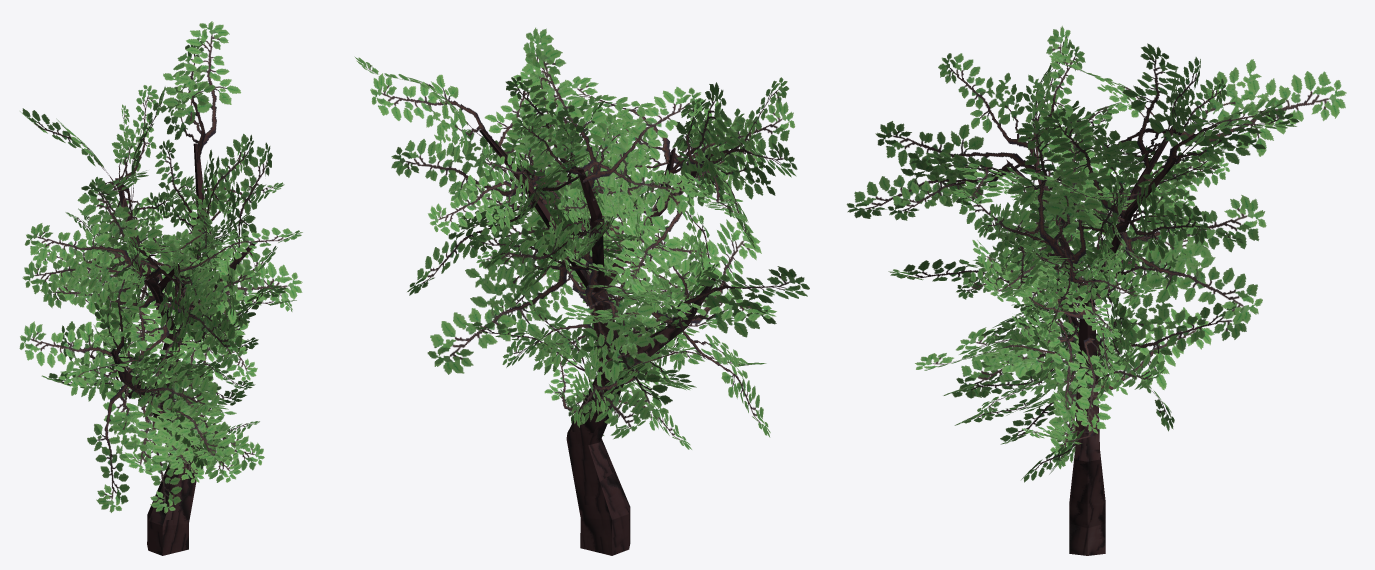
File: HP_Tree1.glb
3 views of the same model, side by side, from view 1: azimuth 30°, elevation 25°; view 2: azimuth 150°, elevation 25°; view 3: azimuth 270°, elevation 25° (orthographic). The views are drawn at different scales.
Visible parts, largest first — view 1: Cube, HP_tree_branch.091, HP_tree_branch.069, HP_tree_branch.076, HP_tree_branch.081, HP_tree_branch.088, HP_tree_branch.086, HP_tree_branch.075, HP_tree_branch.045, HP_tree_branch.042, HP_tree_branch.071, HP_tree_branch.032 (+55 smaller); view 2: Cube, HP_tree_branch.056, HP_tree_branch.047, HP_tree_branch.098, HP_tree_branch.096, HP_tree_branch.093, HP_tree_branch.069, HP_tree_branch.064, HP_tree_branch.041, HP_tree_branch.097, HP_tree_branch.086, HP_tree_branch.068 (+49 smaller); view 3: Cube, HP_tree_branch.057, HP_tree_branch.100, HP_tree_branch.032, HP_tree_branch.068, HP_tree_branch.098, HP_tree_branch.055, HP_tree_branch.059, HP_tree_branch.083, HP_tree_branch.039, HP_tree_branch.088, HP_tree_branch.093 (+46 smaller).
Part boxes in pixels (box(x1,y1,x2,y2)): Cube: box(111, 143, 255, 555); HP_tree_branch.091: box(162, 21, 241, 146); HP_tree_branch.069: box(19, 321, 117, 401); HP_tree_branch.076: box(87, 383, 151, 512); HP_tree_branch.081: box(24, 223, 132, 289); HP_tree_branch.088: box(174, 270, 243, 369); HP_tree_branch.086: box(77, 180, 161, 283); HP_tree_branch.075: box(132, 351, 219, 417); HP_tree_branch.045: box(154, 250, 302, 322); HP_tree_branch.042: box(22, 243, 142, 307); HP_tree_branch.071: box(157, 399, 236, 461); HP_tree_branch.032: box(226, 142, 272, 270); Cube: box(479, 129, 715, 555); HP_tree_branch.056: box(427, 251, 569, 374); HP_tree_branch.047: box(580, 265, 672, 419); HP_tree_branch.098: box(521, 44, 606, 197); HP_tree_branch.096: box(582, 86, 705, 182); HP_tree_branch.093: box(370, 73, 492, 162); HP_tree_branch.069: box(668, 266, 809, 337); HP_tree_branch.064: box(391, 129, 534, 202); HP_tree_branch.041: box(608, 187, 684, 294); HP_tree_branch.097: box(581, 147, 695, 226); HP_tree_branch.086: box(655, 82, 728, 210); HP_tree_branch.068: box(571, 327, 648, 427); Cube: box(1006, 126, 1177, 555); HP_tree_branch.057: box(1121, 216, 1262, 324); HP_tree_branch.100: box(1171, 59, 1346, 156); HP_tree_branch.032: box(1007, 119, 1101, 259); HP_tree_branch.068: box(1096, 292, 1246, 363); HP_tree_branch.098: box(1122, 43, 1200, 170); HP_tree_branch.055: box(1041, 111, 1141, 217); HP_tree_branch.059: box(1115, 194, 1266, 296); HP_tree_branch.083: box(875, 121, 1034, 196); HP_tree_branch.039: box(938, 53, 1028, 147); HP_tree_branch.088: box(846, 152, 1015, 218); HP_tree_branch.093: box(1162, 107, 1299, 168).
Bounding box in the file's own units: 19.42 × 27.39 × 24.45.
2 materials, 2 textured.
